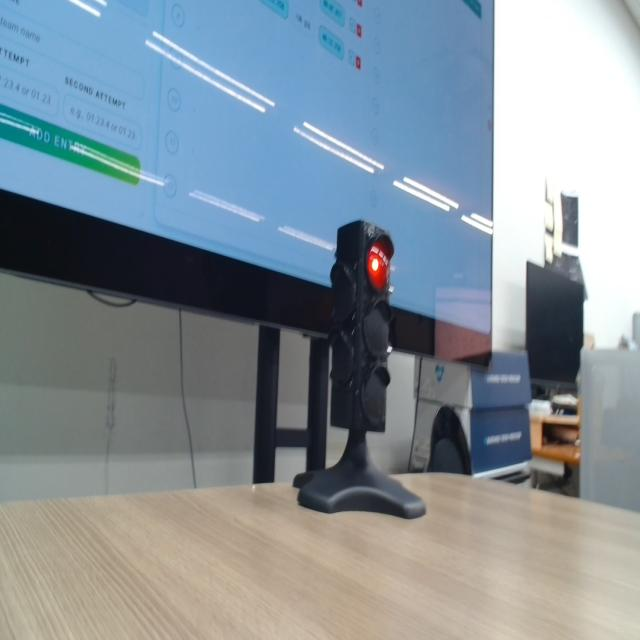red_light: (368, 240, 390, 290)
